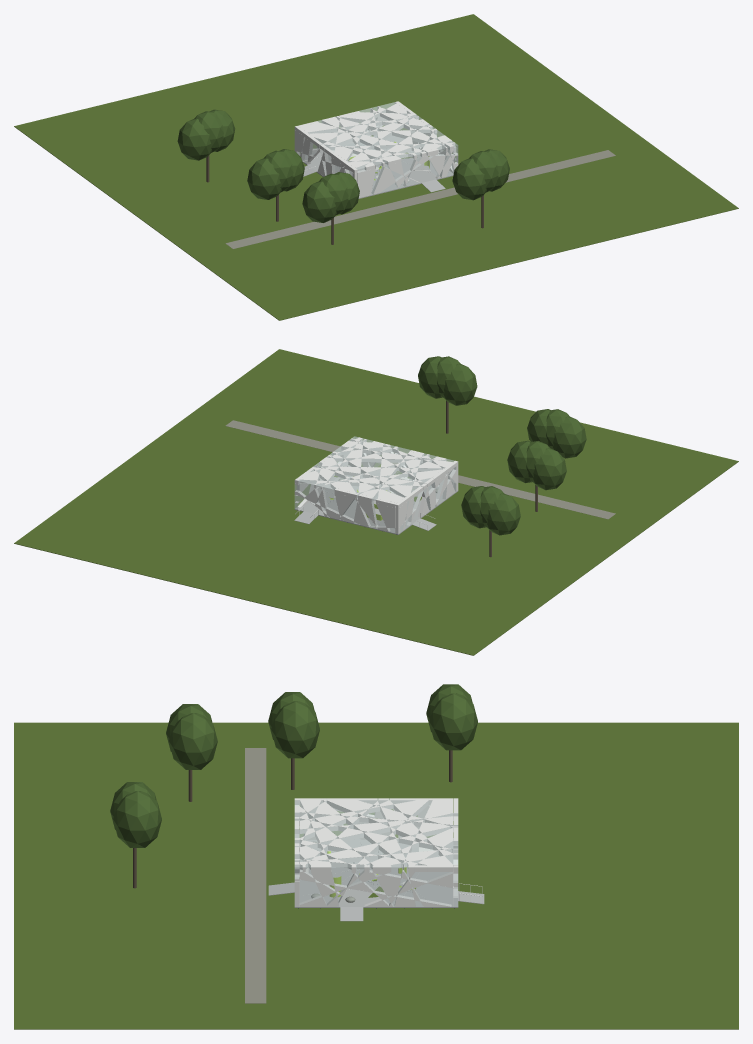
The picture shows the model from 3 angles, top to bottom: view 1: azimuth 30°, elevation 25°; view 2: azimuth 150°, elevation 25°; view 3: azimuth 270°, elevation 25°; orthographic projection. The views are drawn at different scales.
Visible parts, largest first — view 1: 18_Complete_Architecture; view 2: 18_Complete_Architecture; view 3: 18_Complete_Architecture.
Part boxes in pixels (x1=…): 18_Complete_Architecture: x1=14, y1=14, x2=738, y2=320; 18_Complete_Architecture: x1=14, y1=349, x2=738, y2=655; 18_Complete_Architecture: x1=14, y1=684, x2=738, y2=1029.
Size of the model in its own units: 78 by 12.39 by 78.
